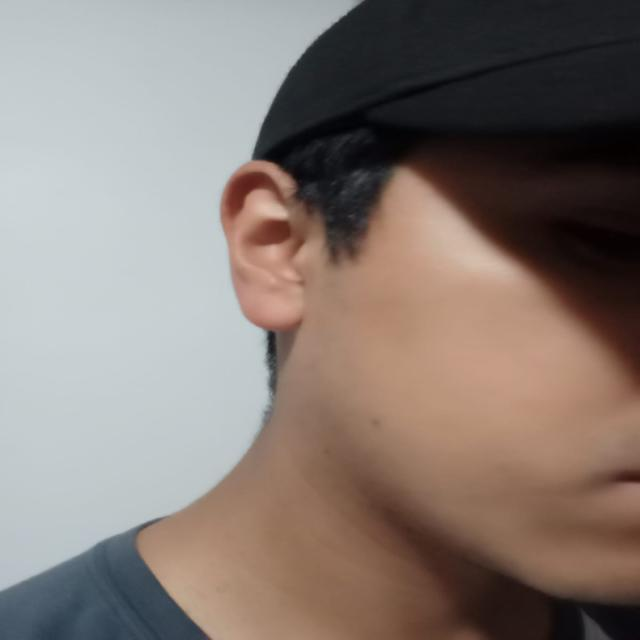ear: (222, 161, 318, 331)
